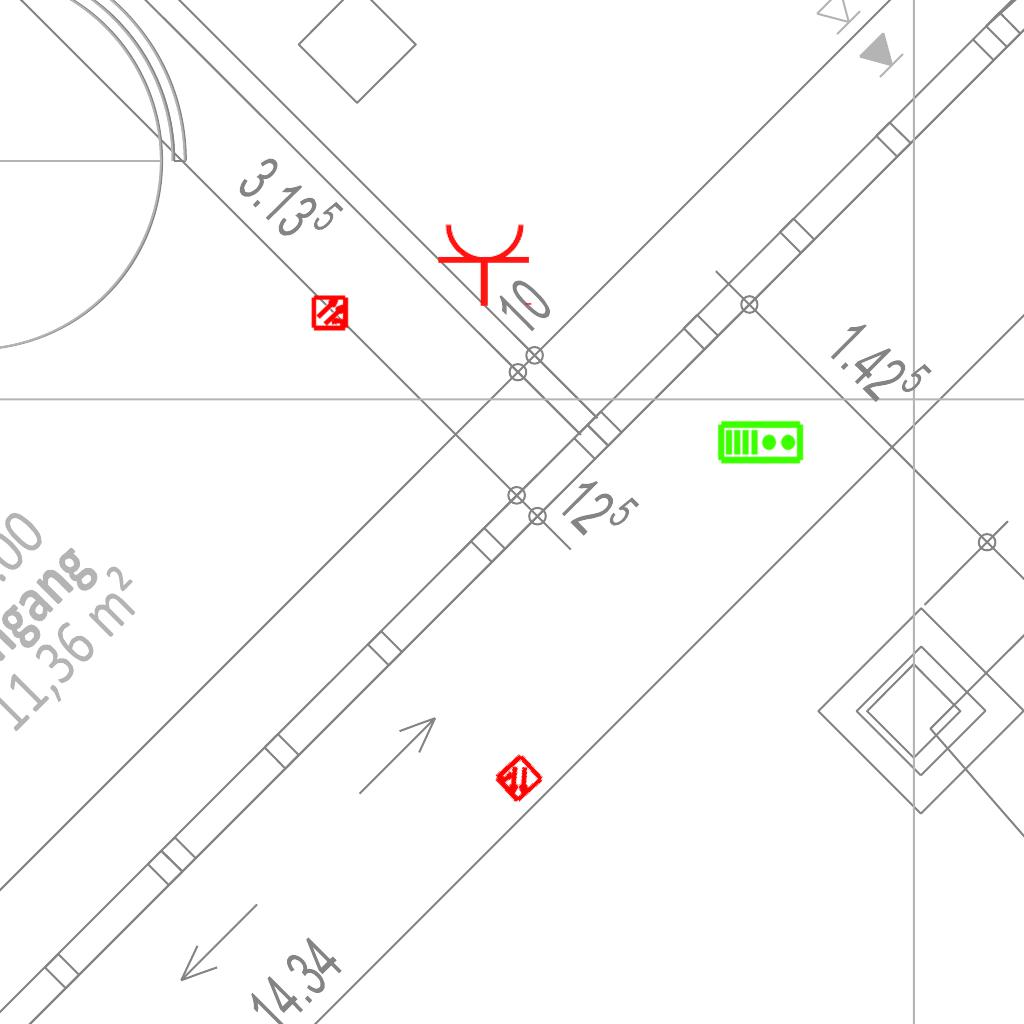Gegensprechanlage_mit_Video: (717, 418, 805, 465)
OT_Multisensormelder_(Kombination_RMO_WMD): (478, 739, 558, 819), (303, 285, 359, 341)
Schukosteckdose_einfach: (436, 221, 536, 308)
